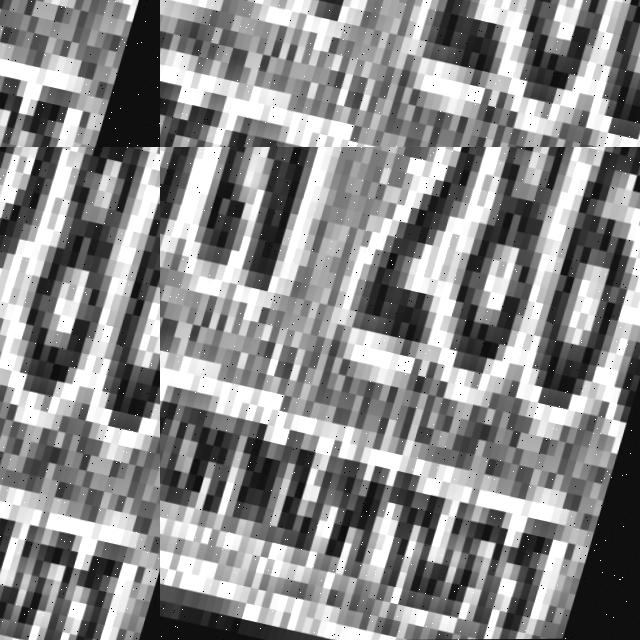license-plate: (160, 147, 640, 640), (0, 211, 160, 640), (0, 0, 160, 147)
